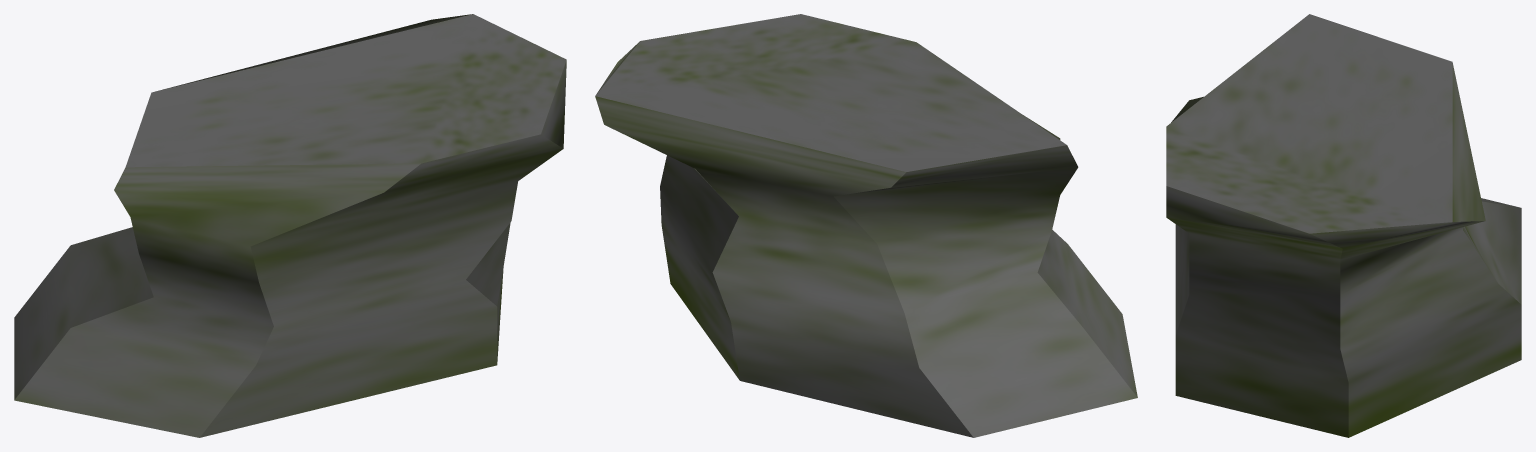
Rendered from big rock1.fbx.
3 views of the same model, side by side, from view 1: azimuth 30°, elevation 25°; view 2: azimuth 150°, elevation 25°; view 3: azimuth 270°, elevation 25° (orthographic). The views are drawn at different scales.
Visible parts, largest first — view 1: pCylinder2; view 2: pCylinder2; view 3: pCylinder2.
Part boxes in pixels (bbox=[...]): pCylinder2: bbox=[14, 14, 566, 437]; pCylinder2: bbox=[595, 14, 1137, 437]; pCylinder2: bbox=[1166, 14, 1521, 437].
Bounding box in the file's own units: 4.5 × 1.79 × 2.51.
1 material, 1 textured.
